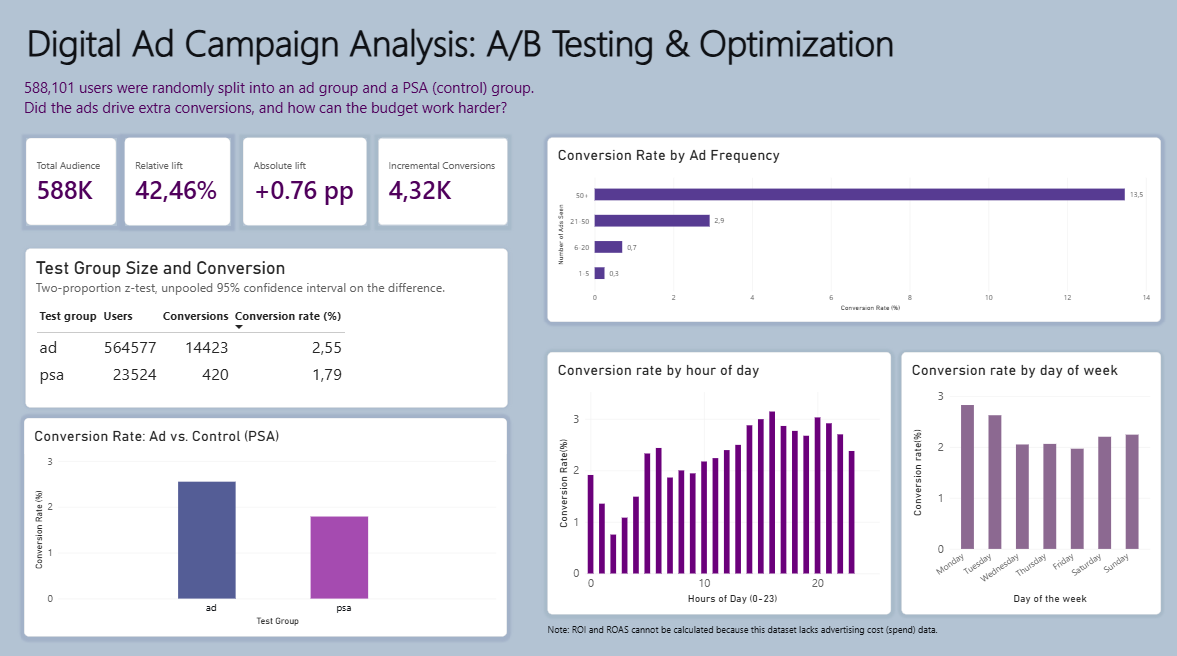

Layout of this report page (visuals, bound fields, positions):
{"tool":"powerbi","page":{"name":"Page 1","canvas":[1920,1080],"ordinal":0},"visuals":[{"type":"textbox","box":[45.6,28.8,1659.4,297.4],"z":0},{"type":"tableEx","title":"Test Group Size and Conversion","fields":{"Values":["overall_conversion.test_group","overall_conversion.users","overall_conversion.conversions","overall_conversion.conv_rate_pct"]},"box":[45.6,407.7,784.2,259],"z":1000},{"type":"cardVisual","fields":{"Data":["overall_conversion.Total Audience"]},"box":[45.6,227.8,148.7,143.9],"z":2000},{"type":"clusteredColumnChart","title":"Conversion Rate: Ad vs. Control (PSA)","fields":{"Category":["overall_conversion.test_group"],"Y":["overall_conversion.Avg Conv Rate"]},"box":[45,683.3,785,355],"z":3000},{"type":"clusteredBarChart","title":"Conversion Rate by Ad Frequency","fields":{"Category":["ad_frequency.ads_bucket"],"Y":["ad_frequency.Avg Freq Rate"]},"box":[894.5,227.8,997.6,299.8],"z":4000},{"type":"textbox","box":[28,492,188,167],"z":5000},{"type":"cardVisual","fields":{"Data":["overall_conversion.Relative Lift"]},"box":[206.2,227.8,172.7,143.9],"z":6000},{"type":"cardVisual","fields":{"Data":["Day_Dim.Incremental Conversions"]},"box":[618.7,227.8,211,143.9],"z":7000},{"type":"textbox","box":[894.5,1016.8,721.8,21.6],"z":8000},{"type":"textbox","box":[45,130.3,847.9,97.1],"z":9000},{"type":"cardVisual","fields":{"Data":["overall_conversion.Absolute Lift"]},"box":[400.5,227.8,201.4,143.9],"z":10000},{"type":"clusteredColumnChart","title":"Conversion rate by hour of day","fields":{"Category":["timing.most_ads_hour"],"Y":["timing.Avg Conve Rate"]},"box":[894.5,575.5,558.7,426.8],"z":11000},{"type":"clusteredColumnChart","title":"Conversion rate by day of week","fields":{"Category":["Day_Dim.Day name"],"Y":["timing.Avg Conve Rate"]},"box":[1470,575.5,422.1,426.8],"z":12000}]}

Visuals, with their boxes in screenshot pixels (x1, y1, x2, y2), scaled from the page's 1920x1080 canvas onto the 1177x656 screenshot:
textbox: (28, 17, 1045, 198)
"Test Group Size and Conversion" tableEx: (28, 248, 509, 405)
cardVisual - overall_conversion.Total Audience: (28, 138, 119, 226)
"Conversion Rate: Ad vs. Control (PSA)" clusteredColumnChart: (28, 415, 509, 631)
"Conversion Rate by Ad Frequency" clusteredBarChart: (548, 138, 1160, 320)
textbox: (17, 299, 132, 400)
cardVisual - overall_conversion.Relative Lift: (126, 138, 232, 226)
cardVisual - Day_Dim.Incremental Conversions: (379, 138, 509, 226)
textbox: (548, 618, 991, 631)
textbox: (28, 79, 547, 138)
cardVisual - overall_conversion.Absolute Lift: (246, 138, 369, 226)
"Conversion rate by hour of day" clusteredColumnChart: (548, 350, 891, 609)
"Conversion rate by day of week" clusteredColumnChart: (901, 350, 1160, 609)
